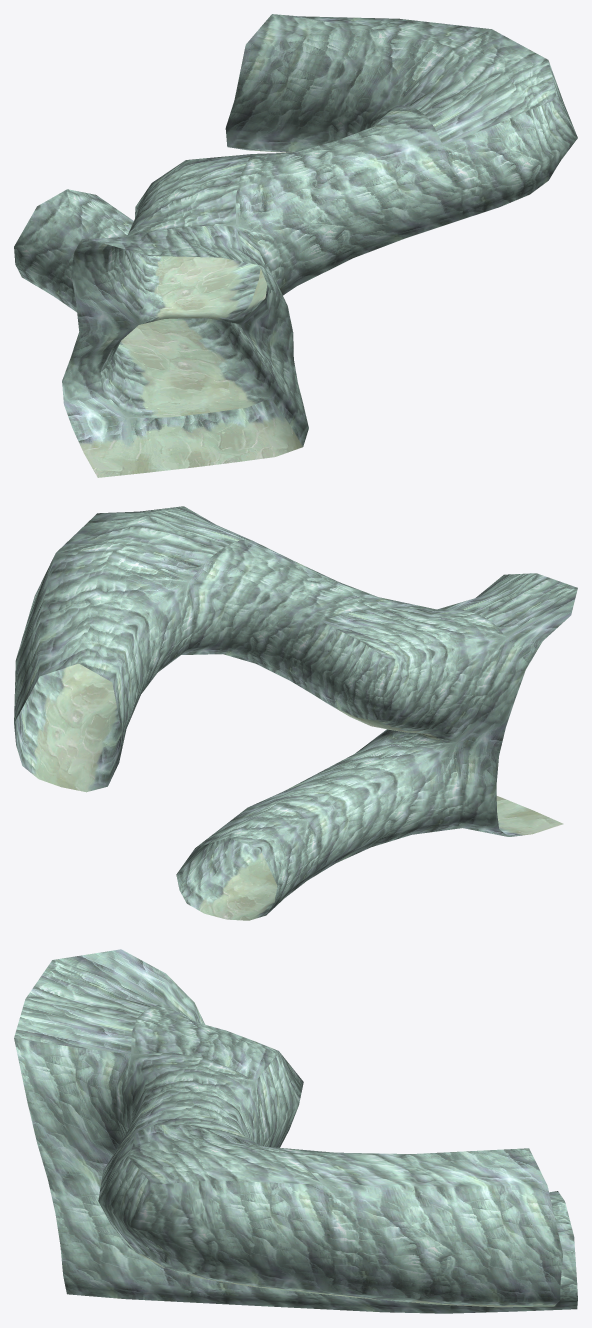
File: TROLLHOLE02_PS-SECRETCAVE01.fbx
3 renders of one model, top to bottom at view 1: azimuth 30°, elevation 25°; view 2: azimuth 150°, elevation 25°; view 3: azimuth 270°, elevation 25°, orthographic. The views are drawn at different scales.
Visible parts, largest first — view 1: TROLLHOLE02_PS-SECRETCAVE01; view 2: TROLLHOLE02_PS-SECRETCAVE01; view 3: TROLLHOLE02_PS-SECRETCAVE01.
Boxes of the visible parts, x1,y1,x2,y2 form: TROLLHOLE02_PS-SECRETCAVE01: (14, 14, 577, 477); TROLLHOLE02_PS-SECRETCAVE01: (14, 506, 577, 920); TROLLHOLE02_PS-SECRETCAVE01: (14, 949, 577, 1313).
Size of the model in its own units: 255156 by 128245 by 226612.
4 materials, 4 textured.
